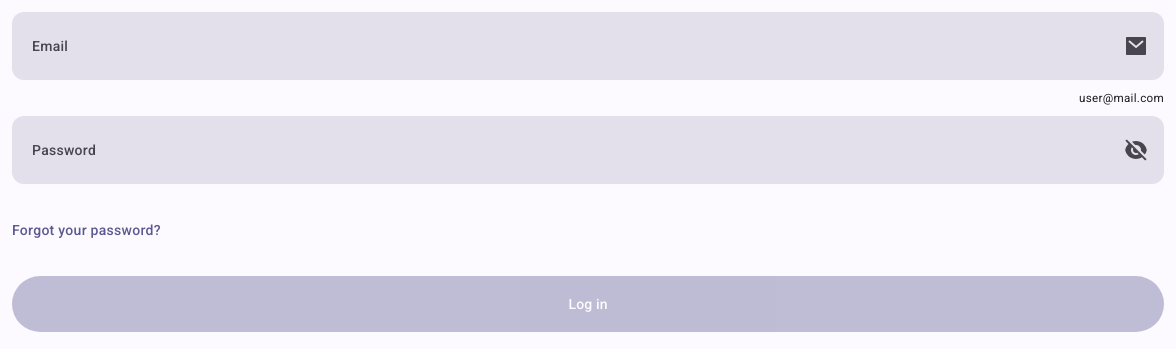
Test: LoginForm Component › shows validation error for invalid email format
# Escribimos algo que no es email y salimos (blur)
Type "holamundo" into the field labelled "Email" at [588, 46], box 12,12 -> 1164,80
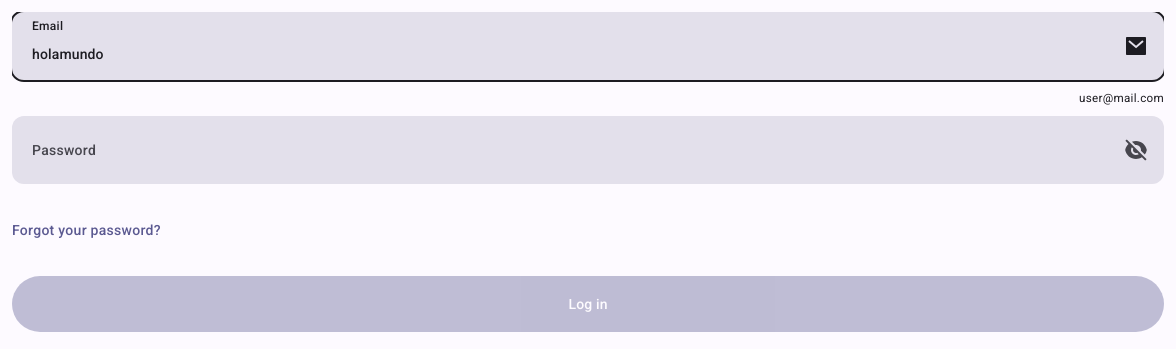
Press Tab
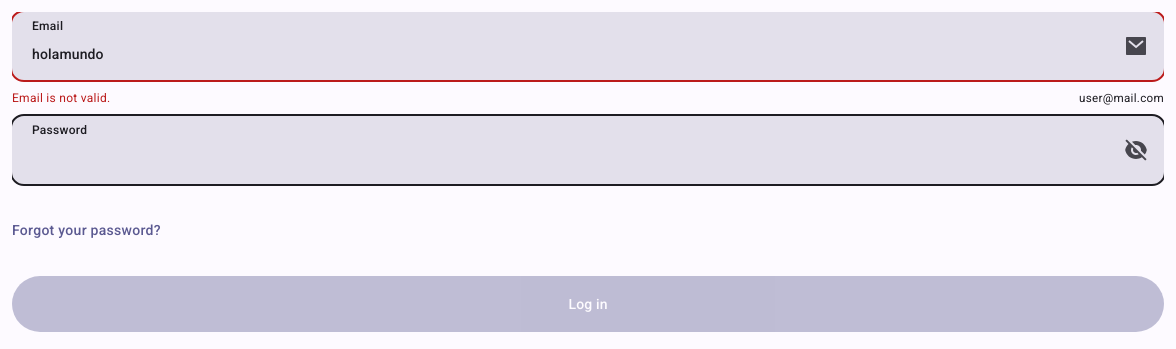
expect the text "Email is not valid." is shown: met, box 12,88 -> 110,108
